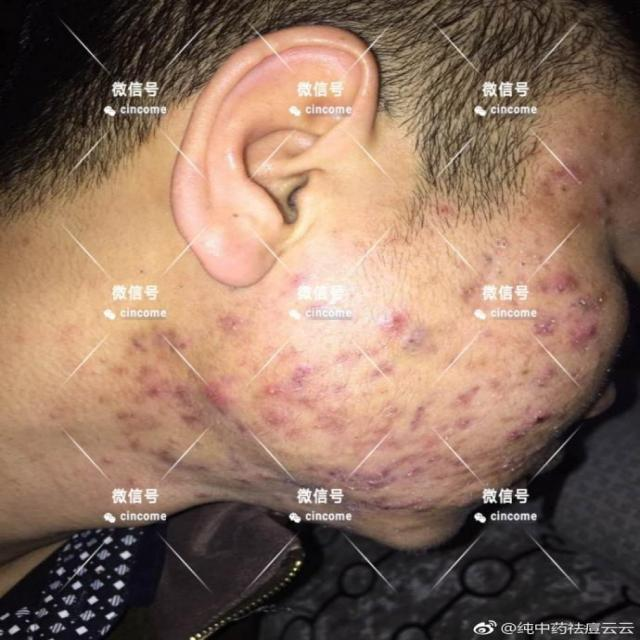nodule: (400, 502, 454, 532), (404, 402, 444, 439), (276, 268, 324, 298), (549, 259, 589, 293), (214, 454, 264, 481), (309, 408, 356, 436), (540, 161, 604, 181), (125, 326, 167, 354), (411, 328, 453, 356), (364, 348, 402, 378), (203, 387, 260, 406), (532, 301, 556, 346), (526, 175, 555, 212), (163, 323, 207, 347), (496, 415, 522, 454), (298, 387, 338, 412), (569, 320, 599, 353), (450, 280, 488, 306), (328, 353, 363, 381), (289, 353, 320, 384), (249, 380, 290, 402), (456, 348, 490, 374), (122, 430, 152, 458), (518, 269, 551, 294), (216, 317, 251, 340), (452, 376, 477, 408), (380, 306, 413, 330), (437, 411, 471, 434), (173, 406, 208, 428), (313, 462, 345, 485), (230, 413, 258, 438), (104, 408, 144, 425), (284, 422, 312, 446), (373, 402, 402, 425), (577, 291, 613, 309), (372, 467, 399, 491), (116, 470, 146, 491), (406, 461, 442, 477), (256, 405, 278, 430), (566, 204, 587, 230), (140, 386, 178, 400), (185, 485, 218, 501), (594, 213, 620, 233), (433, 201, 460, 220), (520, 411, 570, 421), (589, 194, 616, 212), (92, 452, 121, 468), (129, 357, 158, 372), (144, 440, 172, 455), (354, 462, 375, 481), (373, 434, 398, 449), (367, 497, 390, 513), (176, 462, 209, 472), (528, 366, 549, 378)
